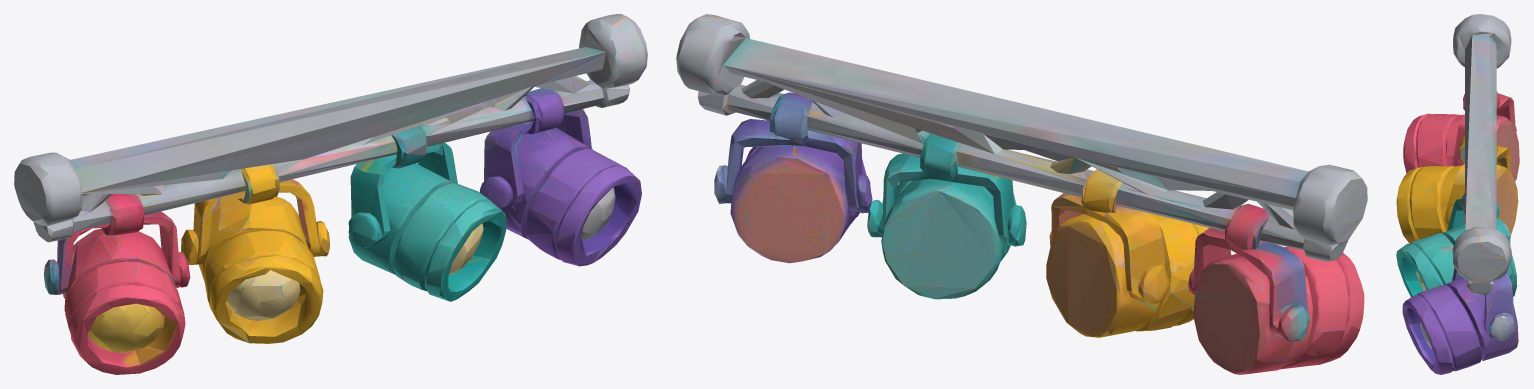
The model's file is ds-lysrig.glb.
3 renders of one model, left to right at view 1: azimuth 30°, elevation 25°; view 2: azimuth 150°, elevation 25°; view 3: azimuth 270°, elevation 25°, orthographic. The views are drawn at different scales.
Bounding box in the file's own units: 1.9 × 0.6251 × 0.4367.
1 material, 1 textured.
